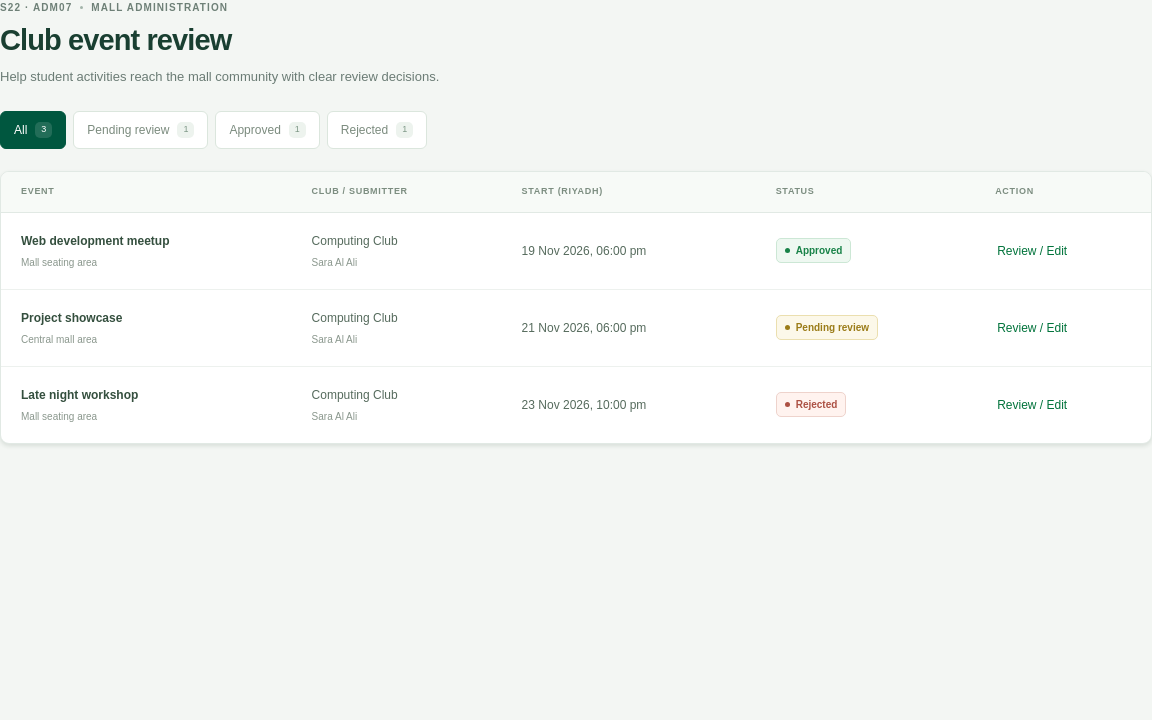
Test: Owned admin screens › saves event edits without approval
The width and height of the screenshot is (1152, 720).
Click the button "Review / Edit" in the row of "Project showcase": (1032, 328) [995,312,1069,344]
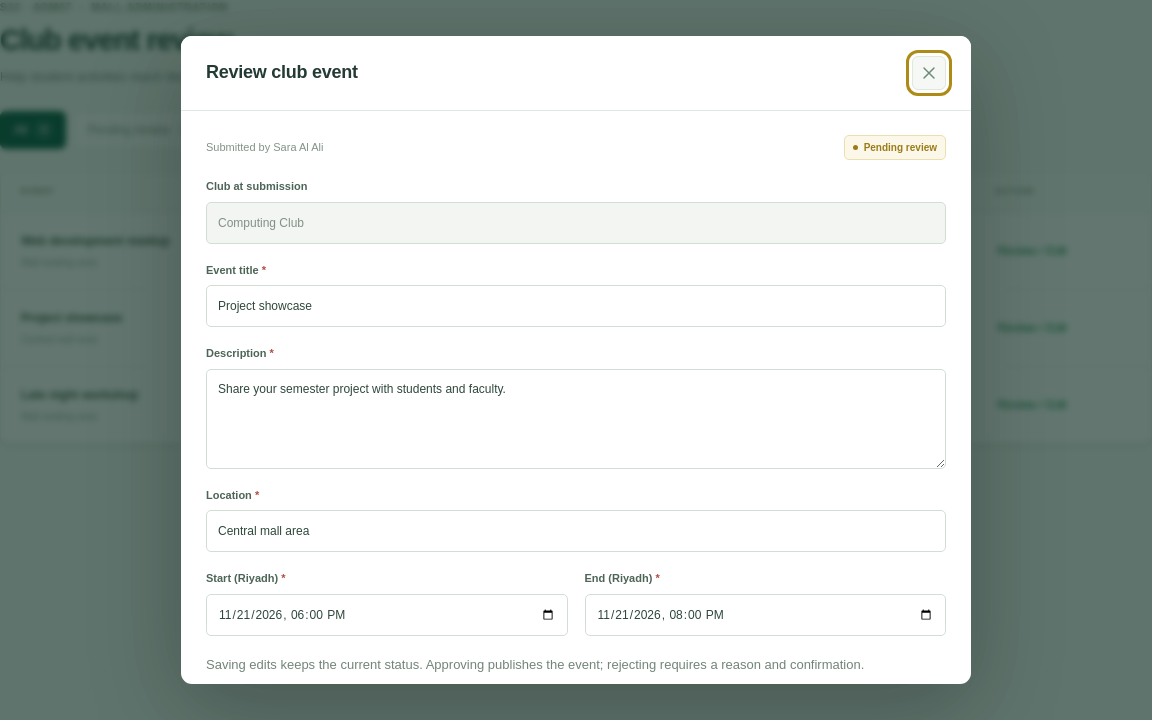
Replace the text in the field labelled "Event title *" with "Revised showcase": (576, 306) [206,285,946,327]
(page scrolled)
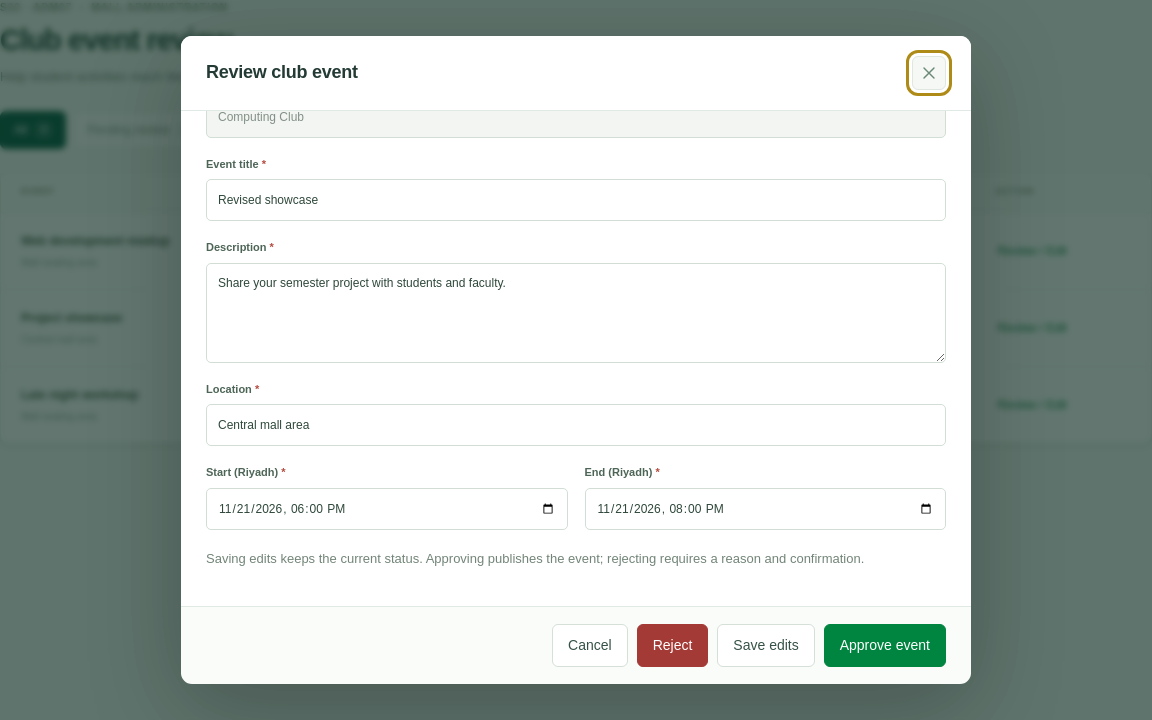
Click the button "Save edits": (766, 645) [717,624,815,667]
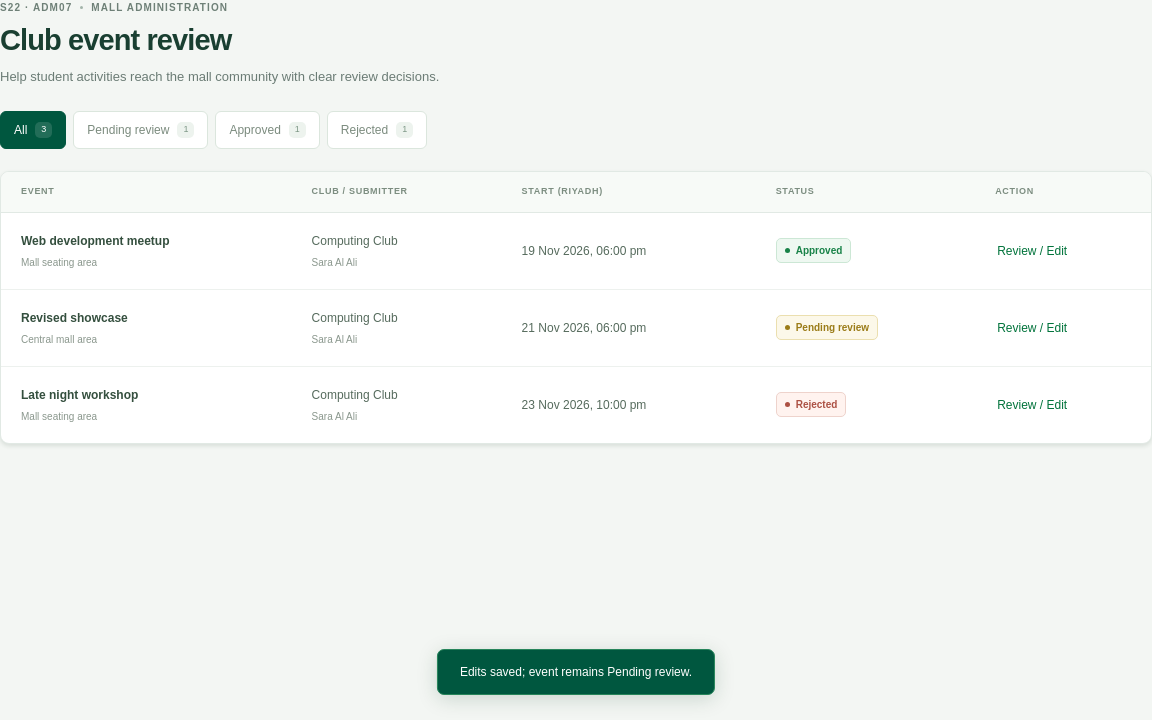
Check: the text "Project showcase" reads "Revised showcase", box [21,311,128,325]
